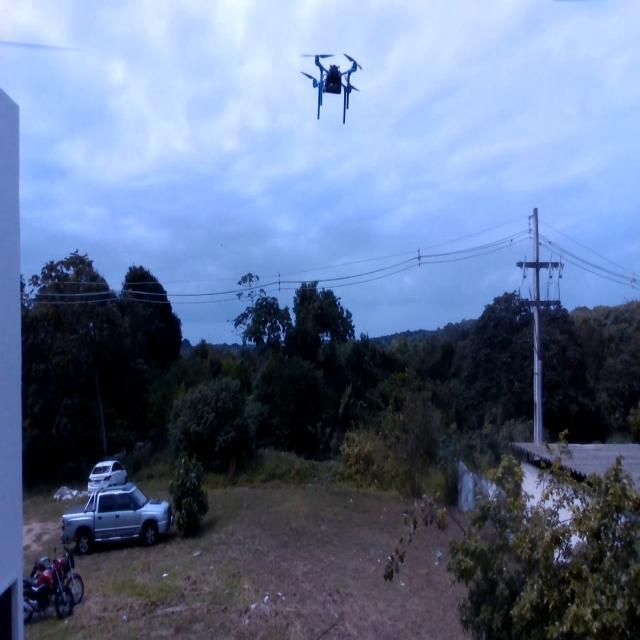-uav-: (291, 34, 370, 132)
